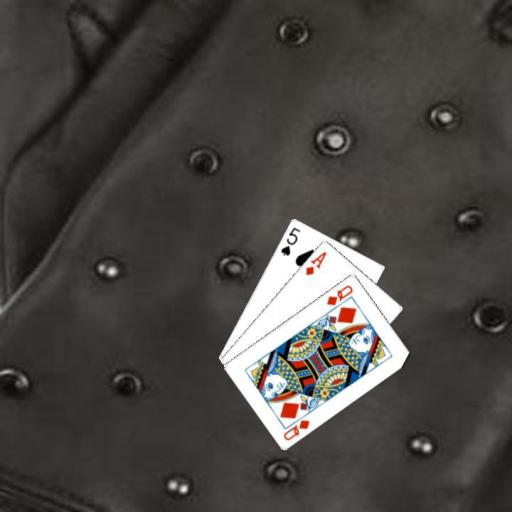5S: (278, 223, 302, 257)
AD: (302, 248, 328, 277)
QD: (280, 416, 312, 442), (324, 282, 354, 307)
